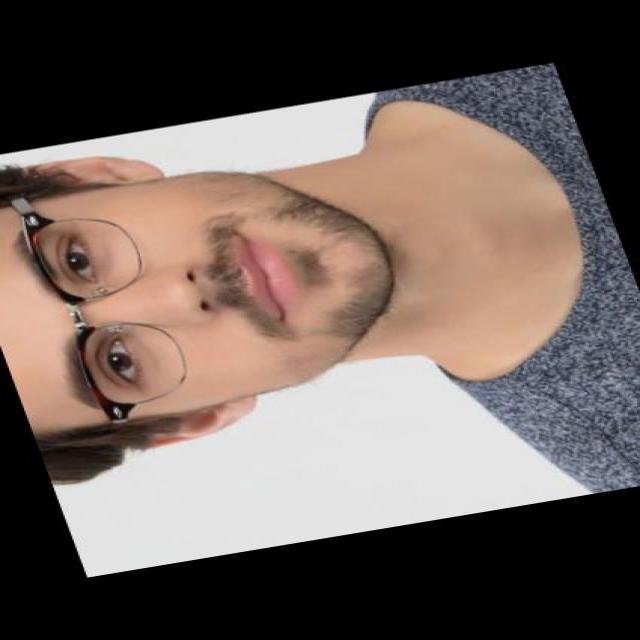glasses: (10, 187, 202, 430)
